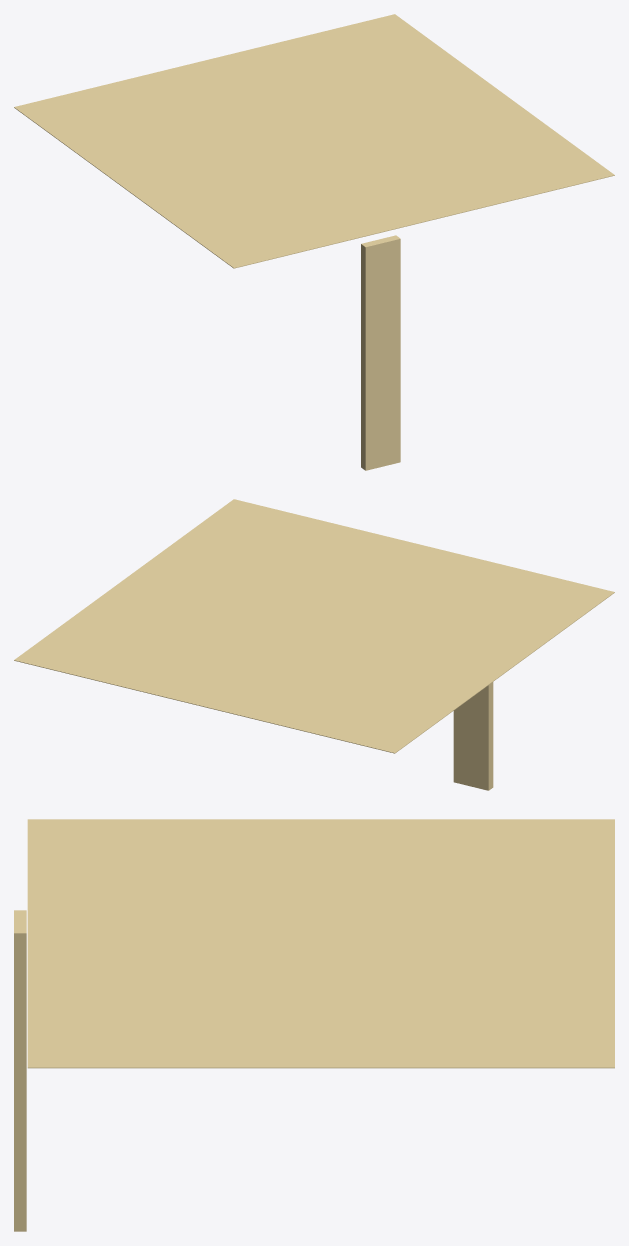
The model's file is crowsnest-firstfloor.glb.
3 renders of one model, top to bottom at view 1: azimuth 30°, elevation 25°; view 2: azimuth 150°, elevation 25°; view 3: azimuth 270°, elevation 25°, orthographic. The views are drawn at different scales.
Parts seen in each view (by area): view 1: S1|SM_Crows_Nest_First_Floor#0; view 2: S1|SM_Crows_Nest_First_Floor#0; view 3: S1|SM_Crows_Nest_First_Floor#0.
Part boxes in pixels (x1,y1,x2,y2): S1|SM_Crows_Nest_First_Floor#0: (14, 14, 614, 470); S1|SM_Crows_Nest_First_Floor#0: (14, 499, 614, 790); S1|SM_Crows_Nest_First_Floor#0: (14, 819, 614, 1231).
Bounding box in the file's own units: 6.04 × 3.48 × 6.18.
